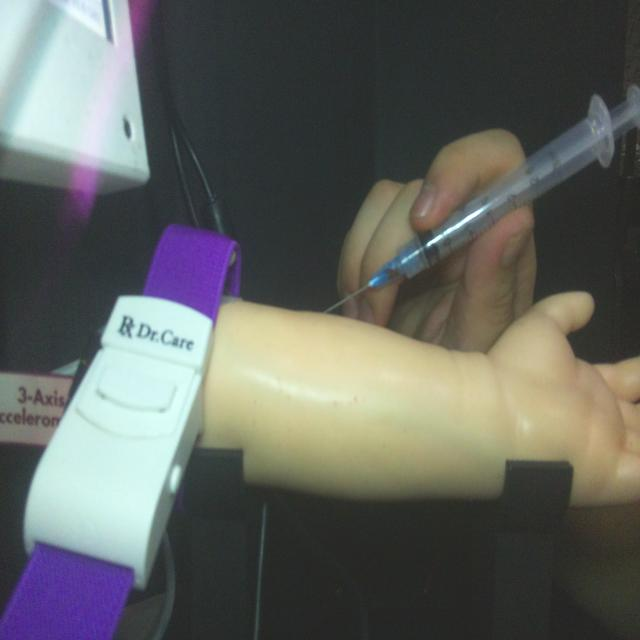23 degrees: (322, 84, 637, 316)
